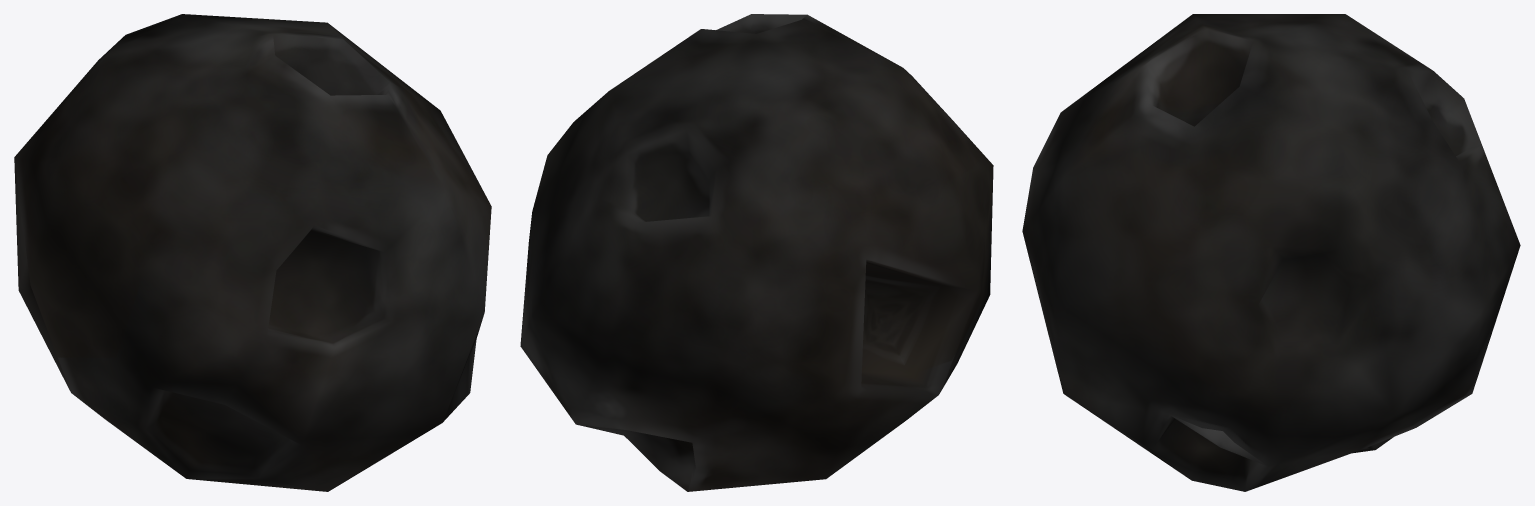
Rendered from Asteroid_Version2_1.fbx.
3 views of the same model, side by side, from view 1: azimuth 30°, elevation 25°; view 2: azimuth 150°, elevation 25°; view 3: azimuth 270°, elevation 25° (orthographic). The views are drawn at different scales.
Parts seen in each view (by area): view 1: asteroid env | 3; view 2: asteroid env | 3; view 3: asteroid env | 3.
Part boxes in pixels (x1=…): asteroid env | 3: x1=14, y1=14, x2=491, y2=491; asteroid env | 3: x1=520, y1=14, x2=993, y2=491; asteroid env | 3: x1=1022, y1=14, x2=1520, y2=491.
Size of the model in its own units: 178 by 176 by 185.
